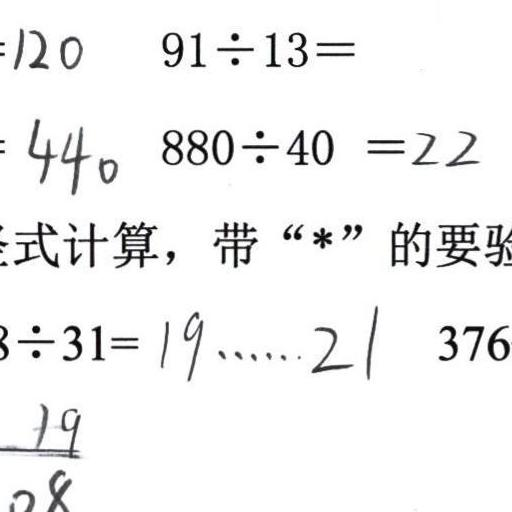ans: (153, 302, 380, 383), (23, 114, 120, 195), (8, 21, 82, 72), (407, 122, 479, 169)
